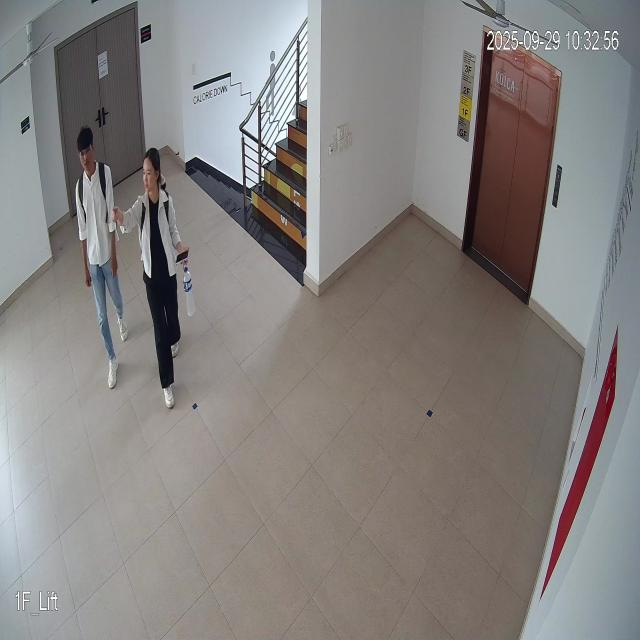face: (139, 147, 164, 198), (76, 126, 96, 178)
